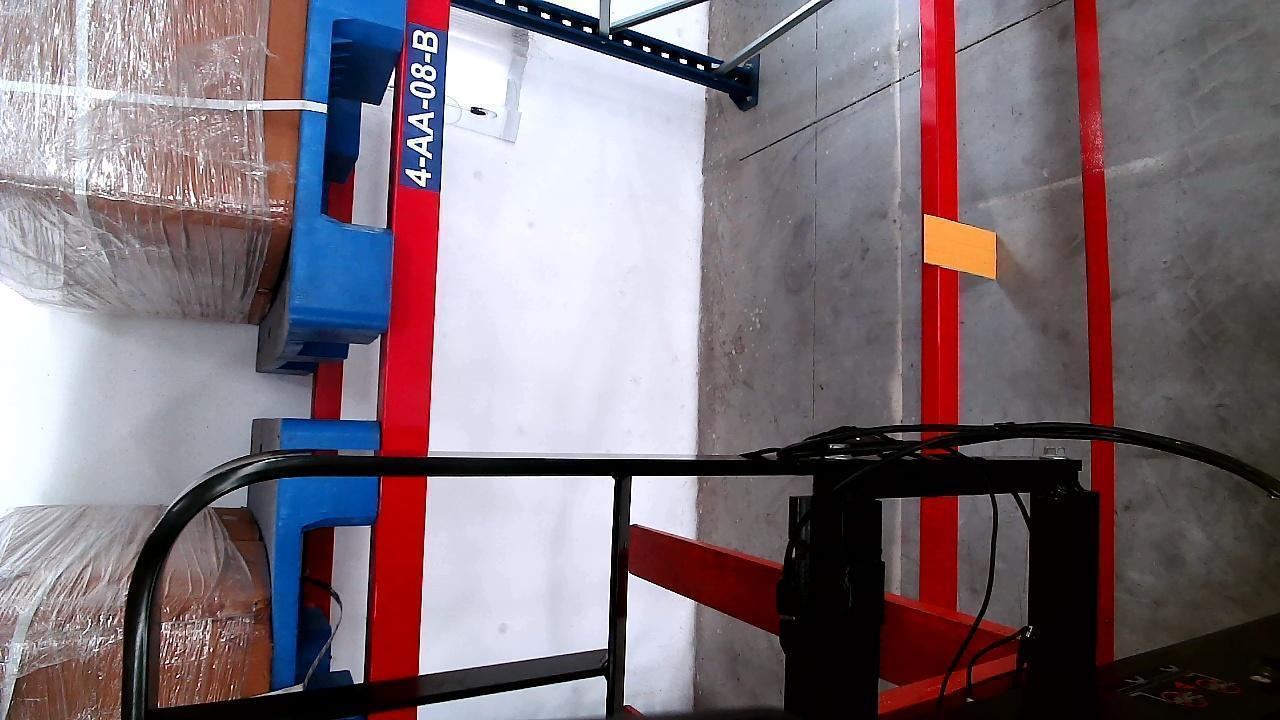red_line: (1078, 0, 1110, 661)
